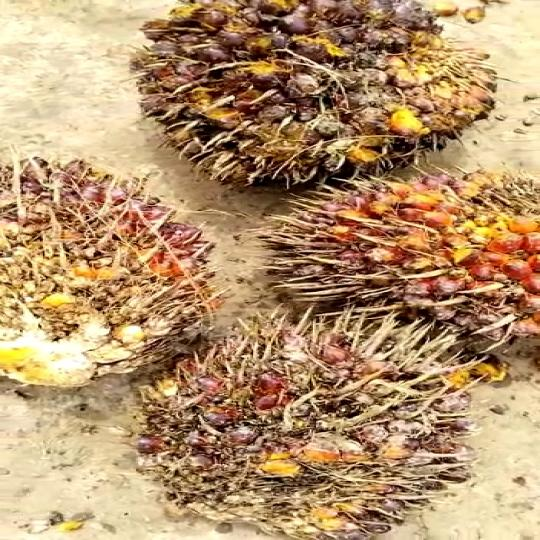masak: (108, 304, 492, 540), (136, 0, 525, 193), (0, 137, 241, 385), (251, 168, 540, 360)
